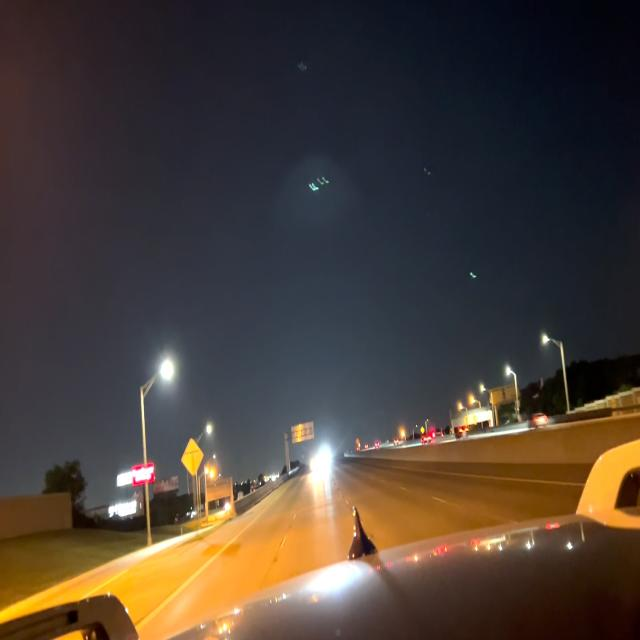back-of-sign: (184, 437, 205, 480)
